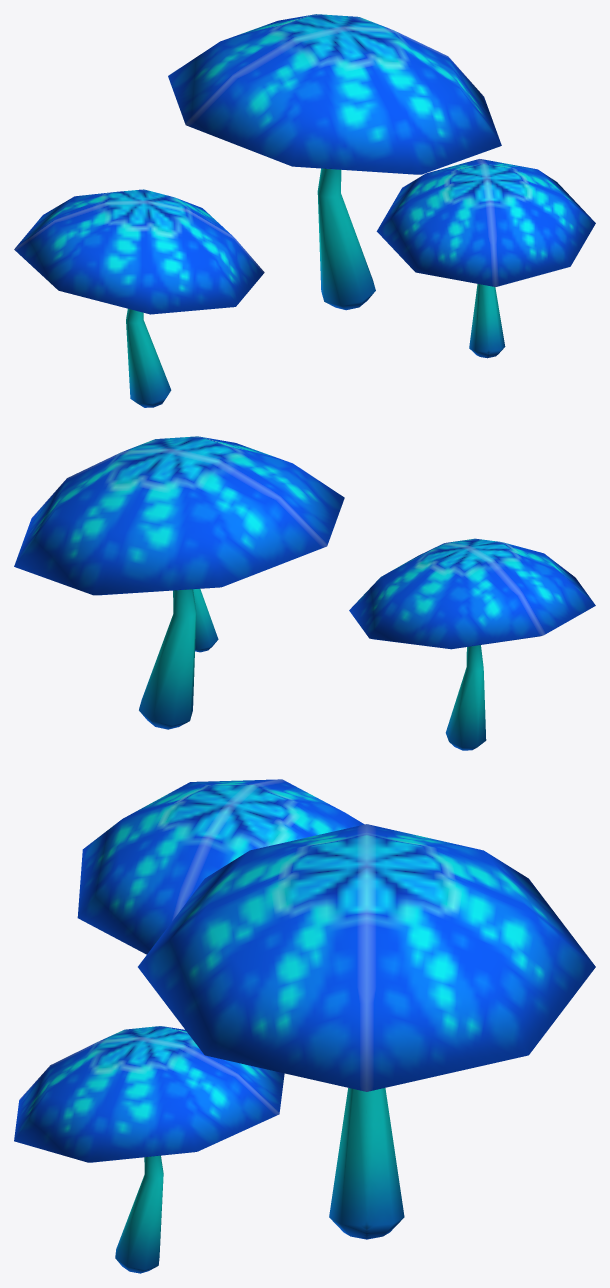
File: Mushroom_02.FBX
3 views of the same model, one above another, from view 1: azimuth 30°, elevation 25°; view 2: azimuth 150°, elevation 25°; view 3: azimuth 270°, elevation 25° (orthographic). The views are drawn at different scales.
Parts seen in each view (by area): view 1: Mushroom_02; view 2: Mushroom_02; view 3: Mushroom_02.
Boxes of the visible parts, box(x1,y1,x2,y2) form: Mushroom_02: box(14, 14, 595, 407); Mushroom_02: box(14, 436, 595, 750); Mushroom_02: box(14, 779, 595, 1273).
Bounding box in the file's own units: 100 × 52.97 × 75.85.
